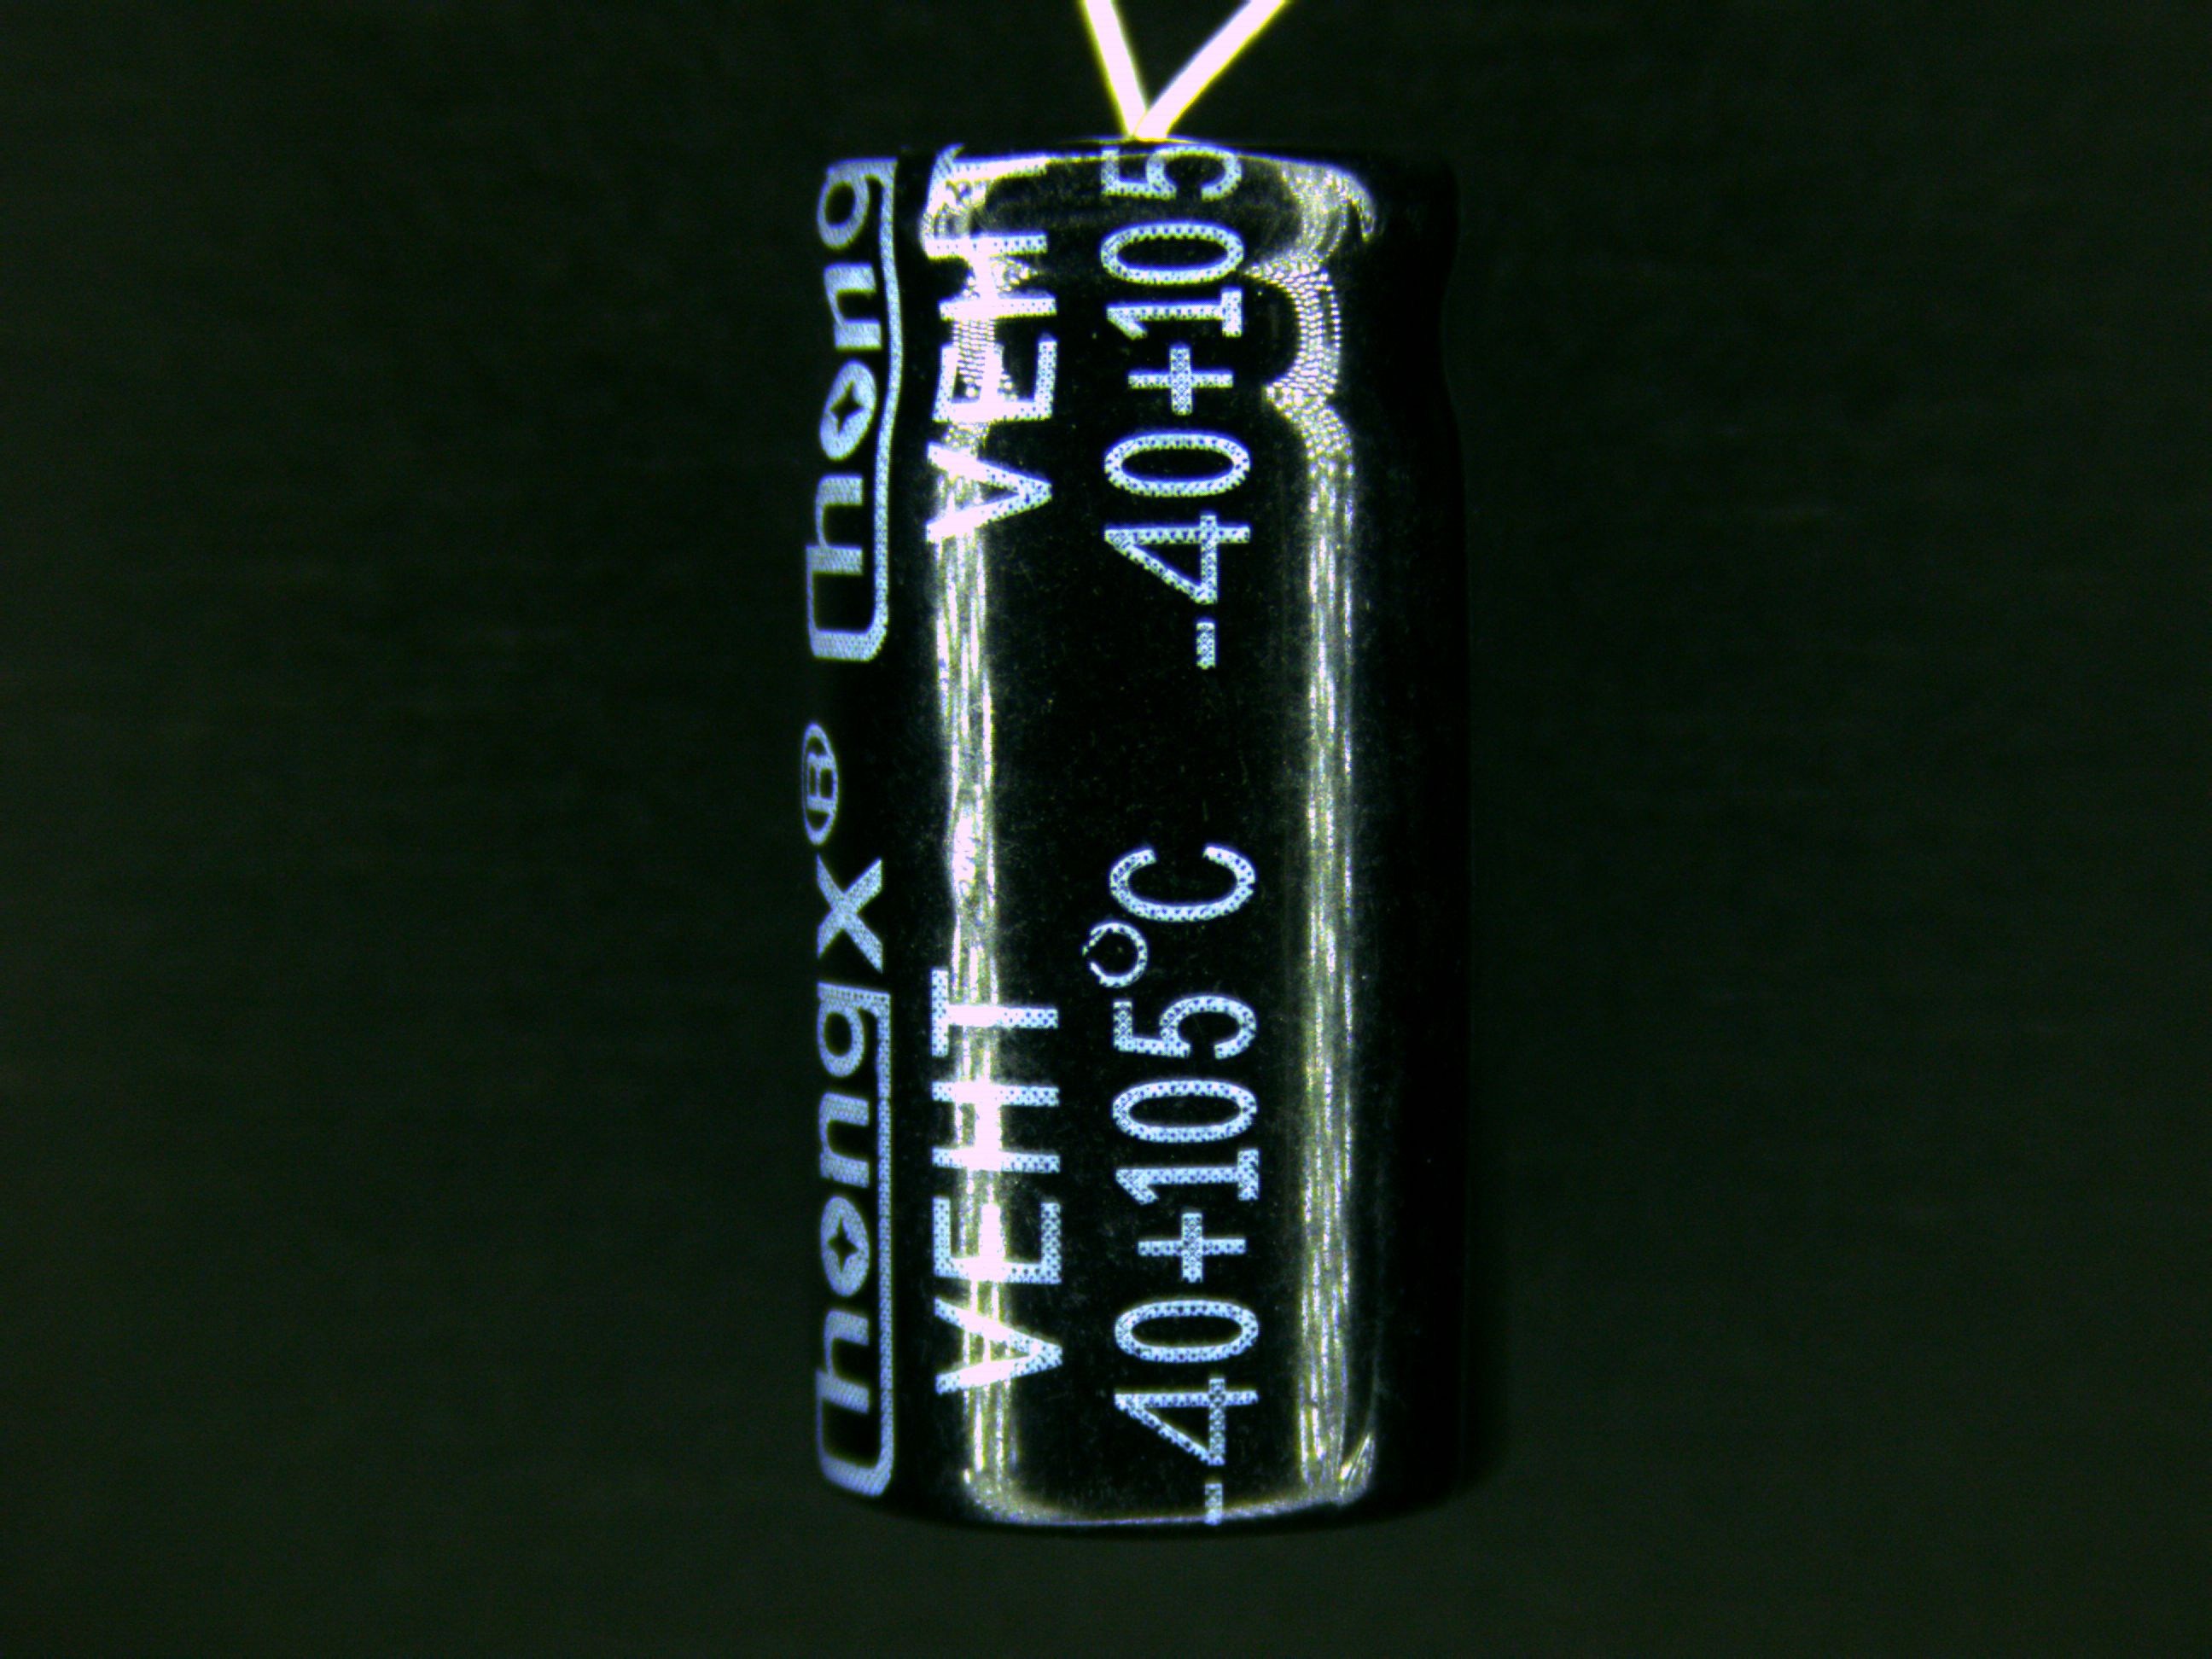c3: (779, 63, 1500, 1542)
